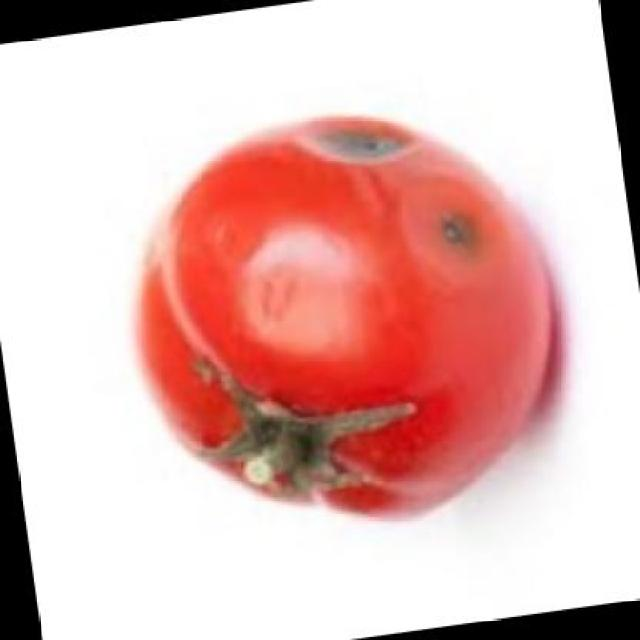overripe tomato: (118, 99, 567, 532)
